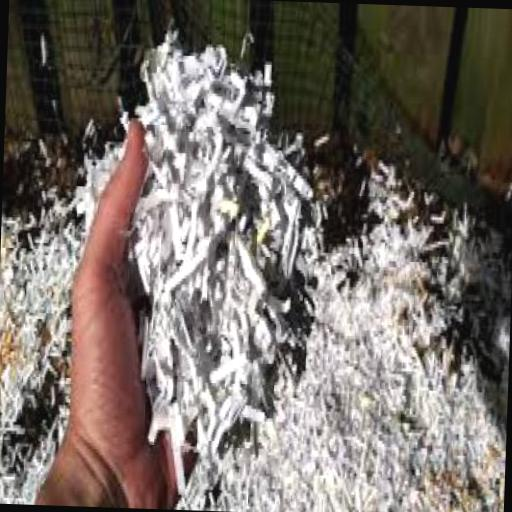paper: (205, 154, 512, 512), (122, 24, 279, 482), (0, 97, 129, 503)
